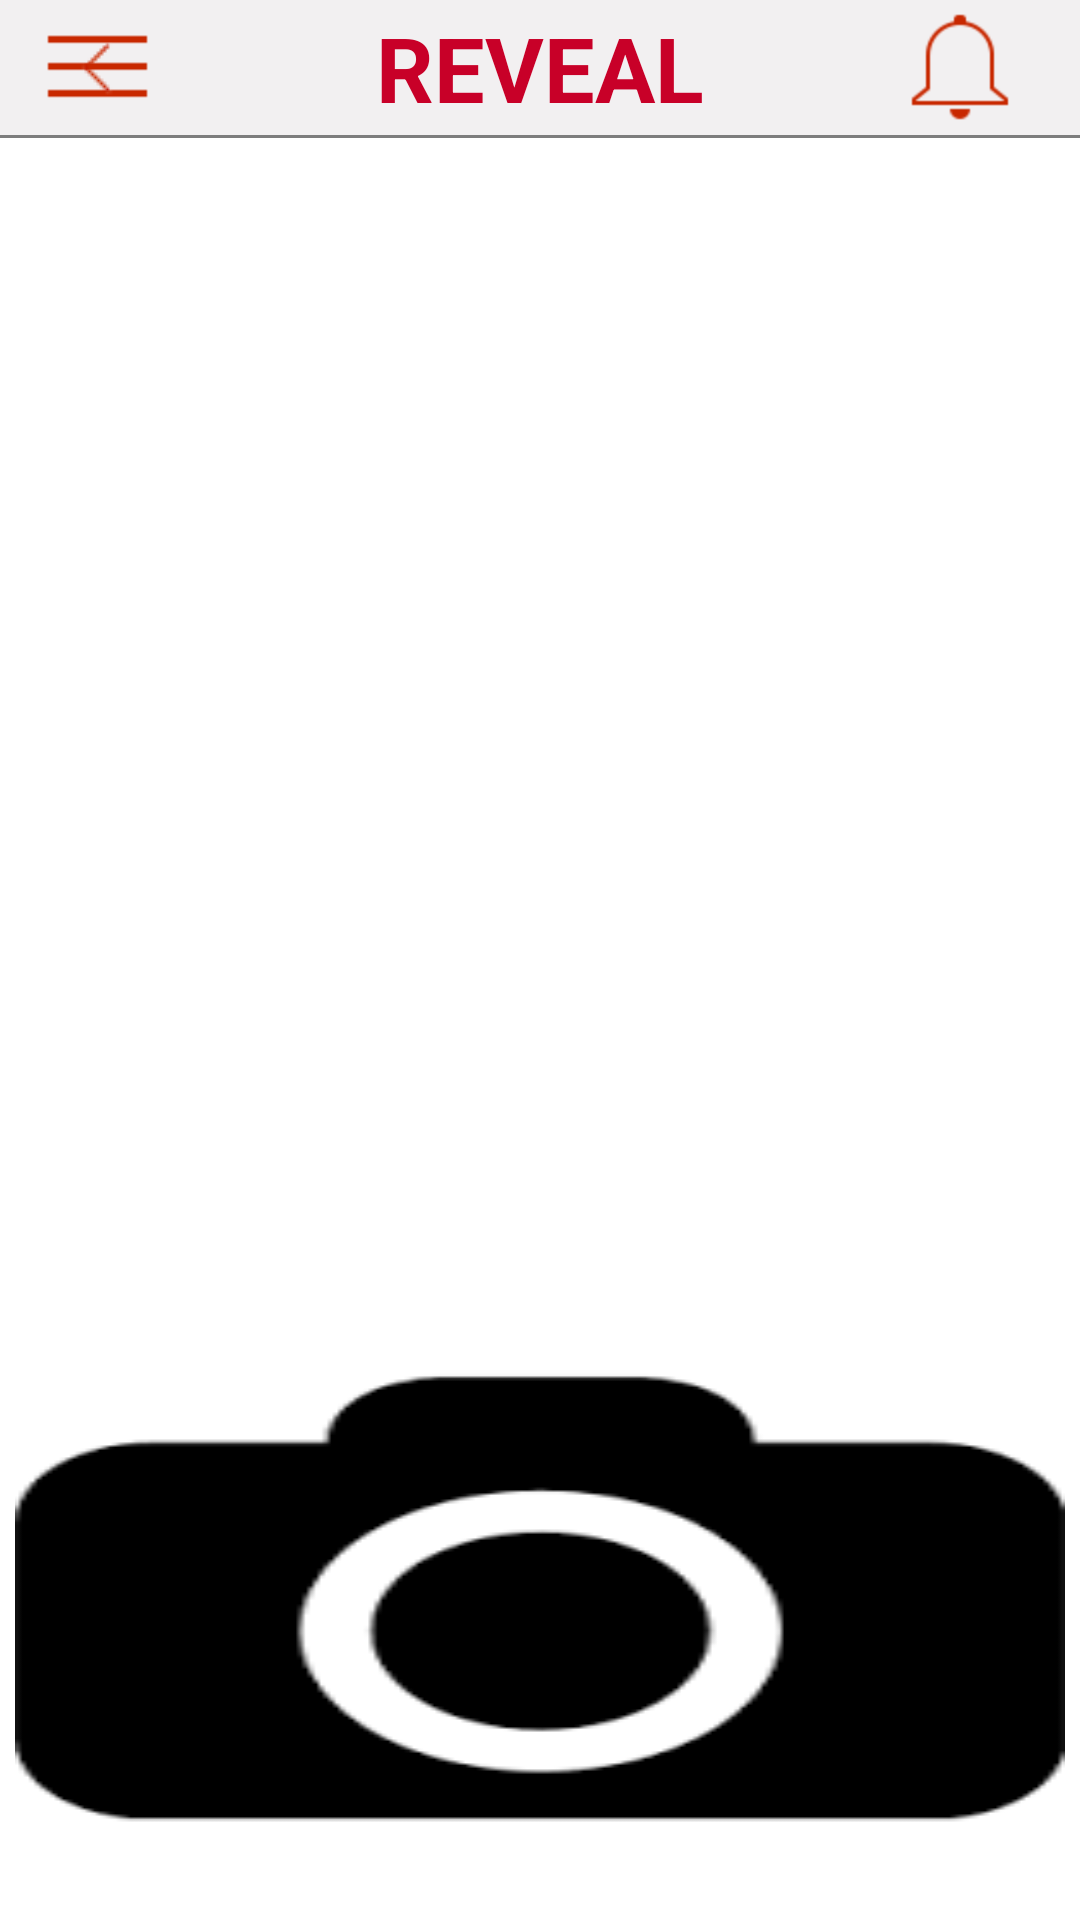

Icon click points for this 1080 × 1920 phone screenshot, format [x,y]:
bell: [960,67]
